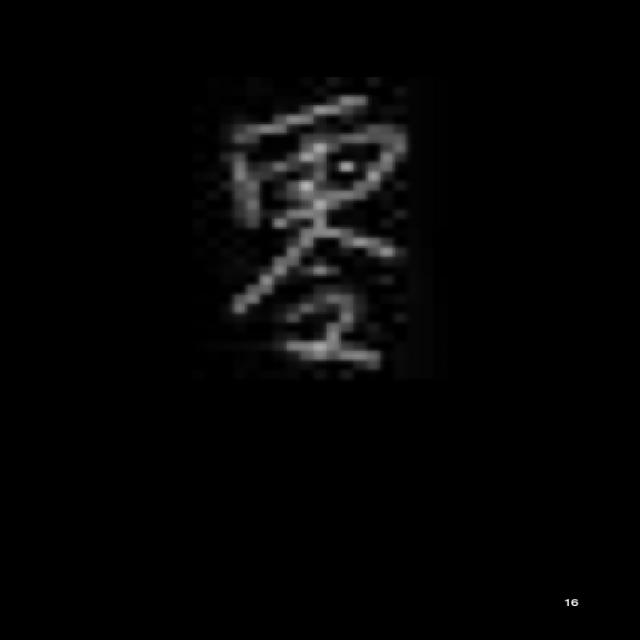0 -zero-: (207, 78, 419, 381)
